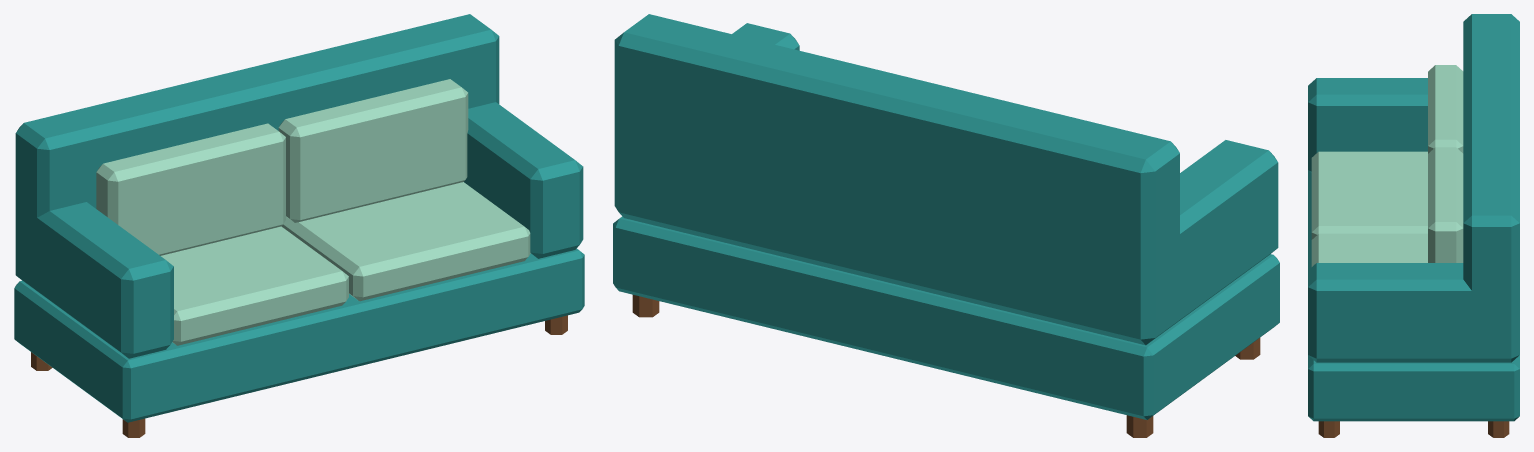
The model's file is FUR_Couch_Frac.fbx.
3 renders of one model, left to right at view 1: azimuth 30°, elevation 25°; view 2: azimuth 150°, elevation 25°; view 3: azimuth 270°, elevation 25°, orthographic. The views are drawn at different scales.
Visible parts, largest first — view 1: FUR_Couch_Frac_1, FUR_Couch_Frac_3, FUR_Couch_Frac_2, FUR_Couch_Frac_4, FUR_Couch_Frac_5; view 2: FUR_Couch_Frac_1, FUR_Couch_Frac_5, FUR_Couch_Frac_4, FUR_Couch_Frac_2, FUR_Couch_Frac_3; view 3: FUR_Couch_Frac_4, FUR_Couch_Frac_3, FUR_Couch_Frac_1, FUR_Couch_Frac_2, FUR_Couch_Frac_5.
Boxes of the visible parts, left/top/right/bottom form: FUR_Couch_Frac_1: left=14, top=77, right=269, bottom=377; FUR_Couch_Frac_3: left=289, top=152, right=584, bottom=363; FUR_Couch_Frac_2: left=31, top=178, right=368, bottom=437; FUR_Couch_Frac_4: left=337, top=14, right=563, bottom=211; FUR_Couch_Frac_5: left=211, top=44, right=383, bottom=231; FUR_Couch_Frac_1: left=890, top=89, right=1279, bottom=419; FUR_Couch_Frac_5: left=646, top=58, right=955, bottom=346; FUR_Couch_Frac_4: left=613, top=14, right=828, bottom=317; FUR_Couch_Frac_2: left=846, top=206, right=1279, bottom=437; FUR_Couch_Frac_3: left=632, top=23, right=847, bottom=346; FUR_Couch_Frac_4: left=1336, top=146, right=1519, bottom=437; FUR_Couch_Frac_3: left=1308, top=223, right=1504, bottom=437; FUR_Couch_Frac_1: left=1308, top=14, right=1519, bottom=182; FUR_Couch_Frac_2: left=1308, top=161, right=1427, bottom=265; FUR_Couch_Frac_5: left=1415, top=97, right=1519, bottom=262.
Bounding box in the file's own units: 7 × 3.5 × 3.
